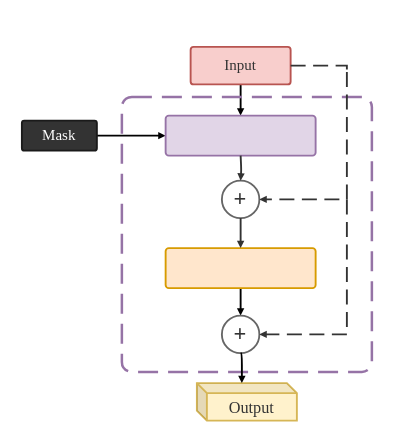
The diagram is 413 pixels wide and 448 high, and some of its shapes have lost their labels. Each missing label, with the box of its shape:
FFN + LN: (164, 247, 316, 288)
GPT Block: (120, 95, 372, 372)
Masked SA + LN: (164, 114, 316, 156)
